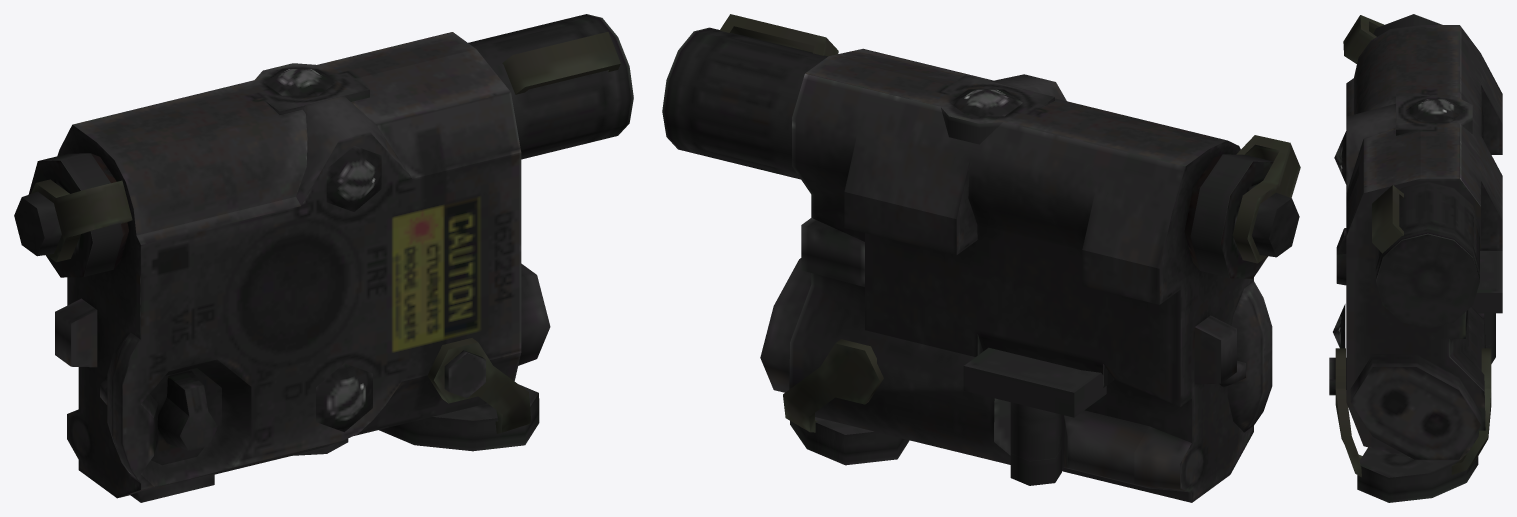
The model's file is t6_attach_dbal_world_LOD0.obj.
The picture shows the model from 3 angles, left to right: view 1: azimuth 30°, elevation 25°; view 2: azimuth 150°, elevation 25°; view 3: azimuth 270°, elevation 25°; orthographic projection. The views are drawn at different scales.
Visible parts, largest first — view 1: mtl_t6_attach_dbal; view 2: mtl_t6_attach_dbal; view 3: mtl_t6_attach_dbal.
Boxes of the visible parts, x1,y1,x2,y2 form: mtl_t6_attach_dbal: (14,14,633,502); mtl_t6_attach_dbal: (662,14,1300,502); mtl_t6_attach_dbal: (1329,14,1502,502).
Size of the model in its own units: 9.66 by 6.11 by 3.01.
